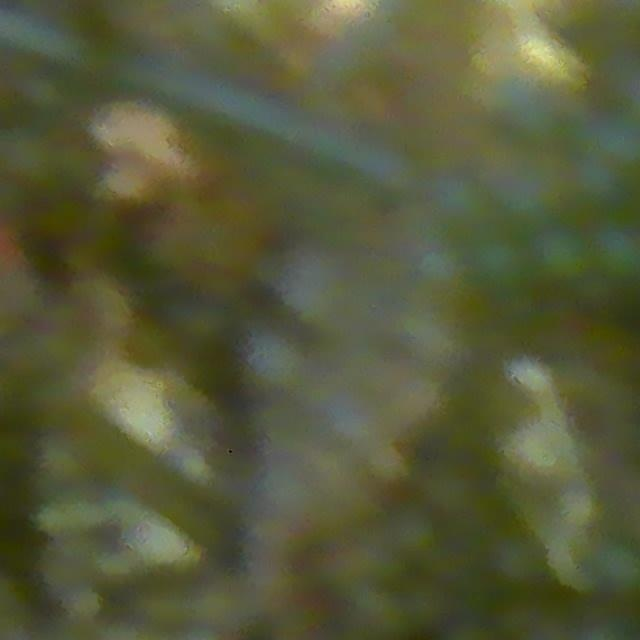SeaGrape: (464, 229, 530, 300), (427, 170, 490, 235), (532, 230, 590, 289), (591, 223, 640, 290), (491, 178, 546, 232)
